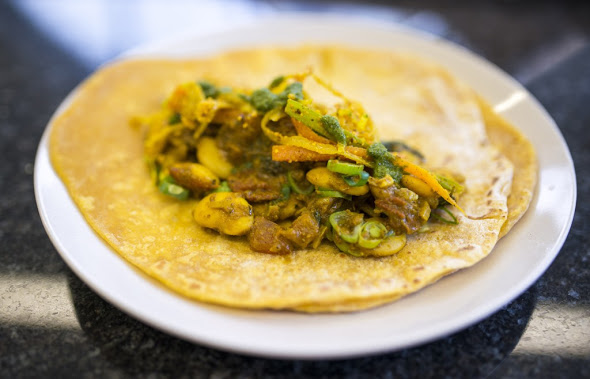Farata: (45, 21, 540, 300)
